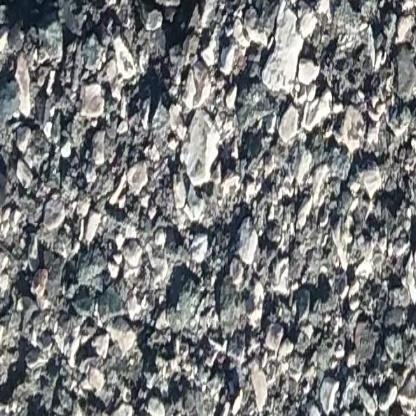Cracks: (0, 0, 244, 52)
